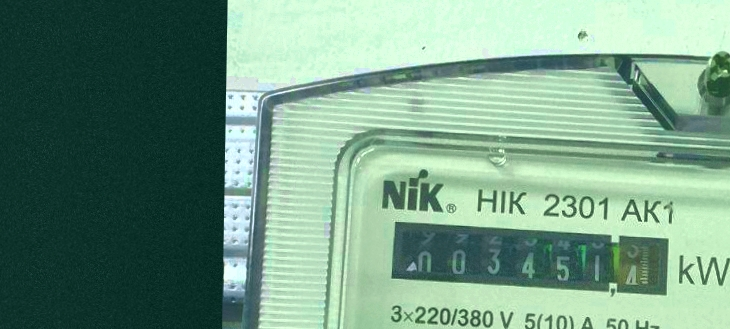0: (413, 246, 434, 273), (448, 247, 468, 275)
1: (588, 251, 605, 282)
3: (483, 244, 503, 275)
4: (517, 249, 538, 281), (620, 260, 641, 289)
5: (553, 251, 571, 283)
screen: (384, 216, 674, 302)
